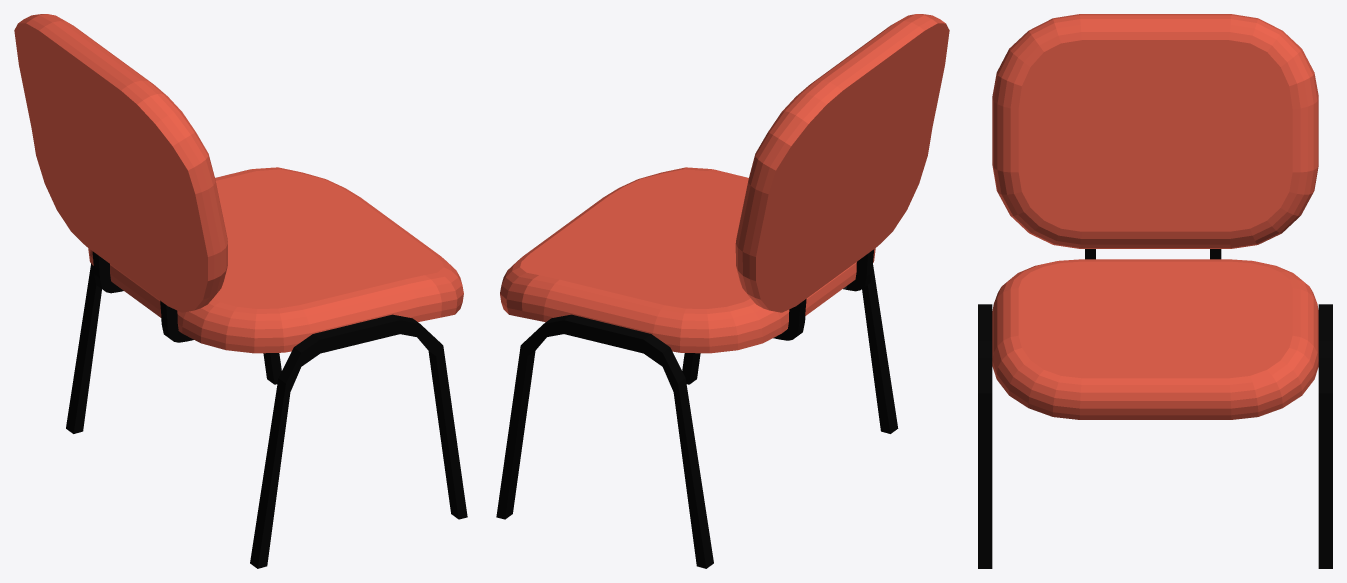
Rendered from scaun01.fbx.
3 renders of one model, left to right at view 1: azimuth 30°, elevation 25°; view 2: azimuth 150°, elevation 25°; view 3: azimuth 270°, elevation 25°, orthographic. The views are drawn at different scales.
Parts seen in each view (by area): view 1: Scaun.002; view 2: Scaun.002; view 3: Scaun.002.
Boxes of the visible parts, box(x1,y1,x2,y2) form: Scaun.002: box(14, 14, 467, 568); Scaun.002: box(496, 14, 949, 568); Scaun.002: box(978, 14, 1332, 568).
Bounding box in the file's own units: 214 × 287 × 215.
